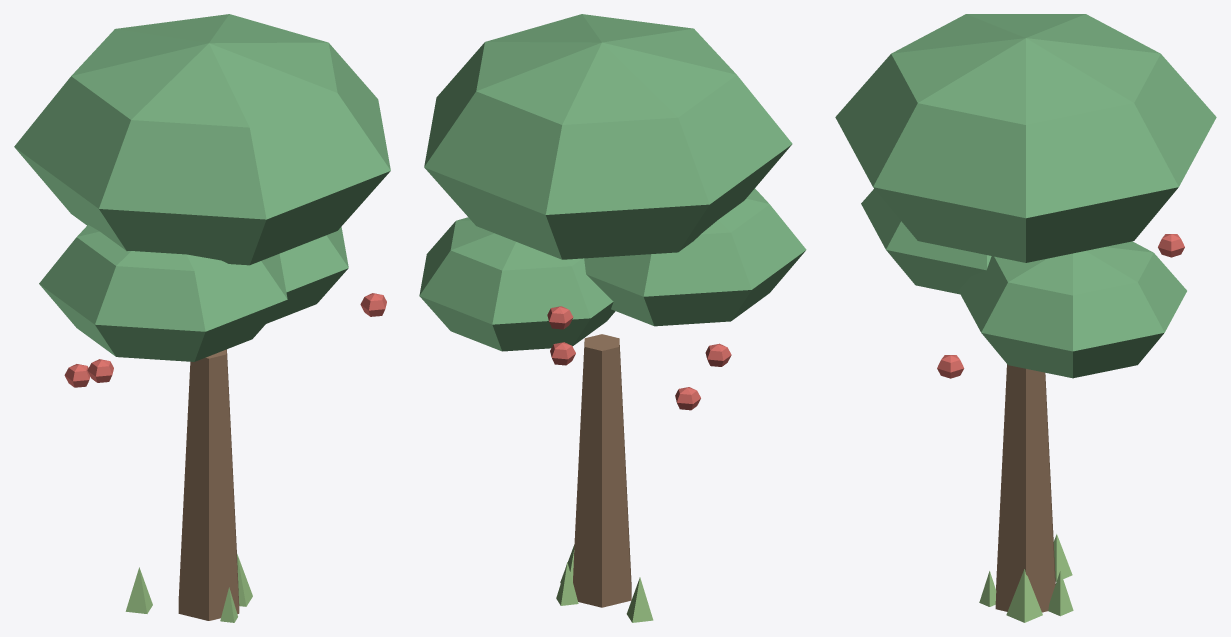
Rendered from apple-tree.glb.
The picture shows the model from 3 angles, left to right: view 1: azimuth 30°, elevation 25°; view 2: azimuth 150°, elevation 25°; view 3: azimuth 270°, elevation 25°; orthographic projection. The views are drawn at different scales.
Parts seen in each view (by area): view 1: apple-tree; view 2: apple-tree; view 3: apple-tree.
Part boxes in pixels (<box>): apple-tree: <box>14,14,390,622</box>; apple-tree: <box>419,14,806,622</box>; apple-tree: <box>835,14,1216,622</box>.
Size of the model in its own units: 3.71 by 6.04 by 3.7.
